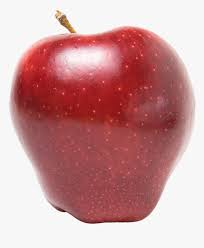apple: (14, 26, 195, 223)
